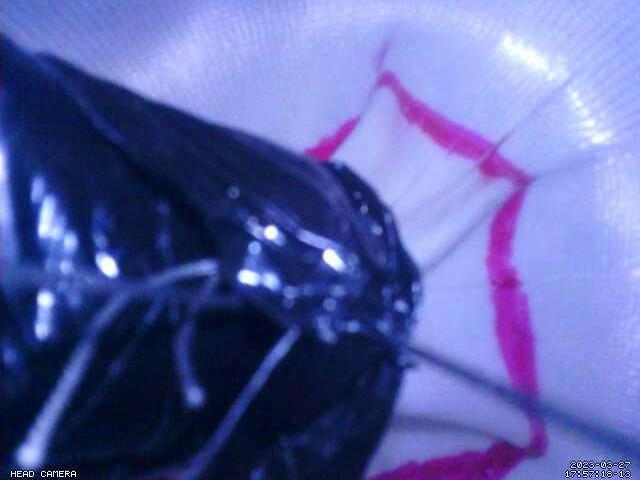red-circle: (304, 69, 550, 480)
